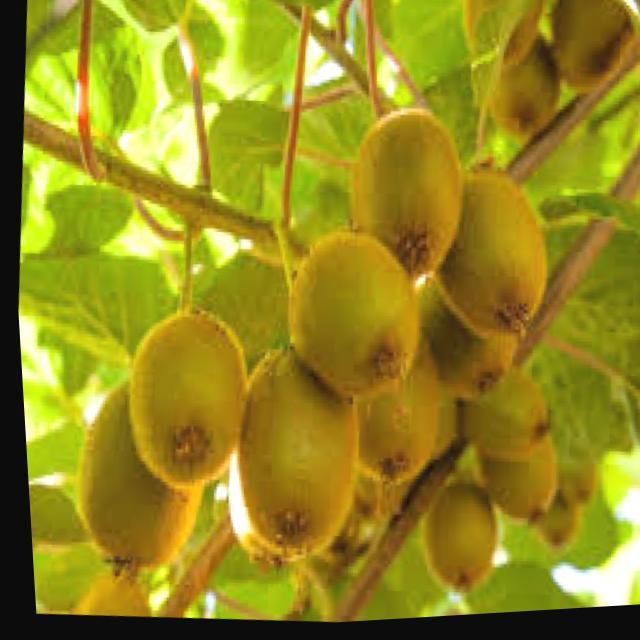kiwi: (221, 337, 365, 563), (60, 366, 210, 578), (271, 222, 422, 411), (111, 302, 254, 496), (415, 160, 555, 353), (336, 100, 470, 287), (332, 306, 444, 490), (407, 471, 497, 600), (448, 360, 550, 471), (463, 408, 556, 527), (478, 28, 564, 147), (541, 1, 640, 101), (524, 468, 577, 556), (549, 436, 592, 507)
